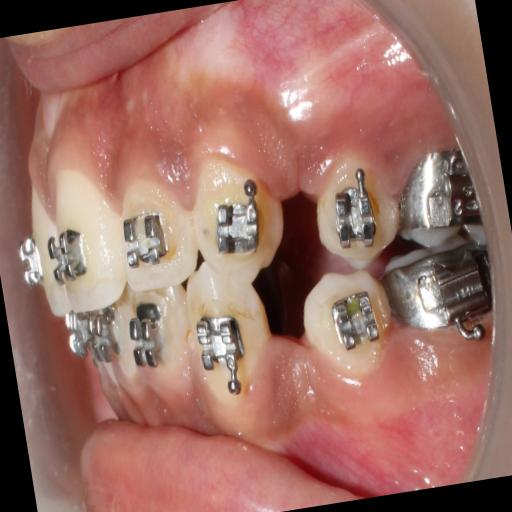correct_brace: (308, 149, 408, 274), (115, 200, 176, 274), (210, 186, 266, 266), (43, 218, 91, 290)
incorrect_brace: (112, 174, 203, 297), (326, 178, 382, 254)
